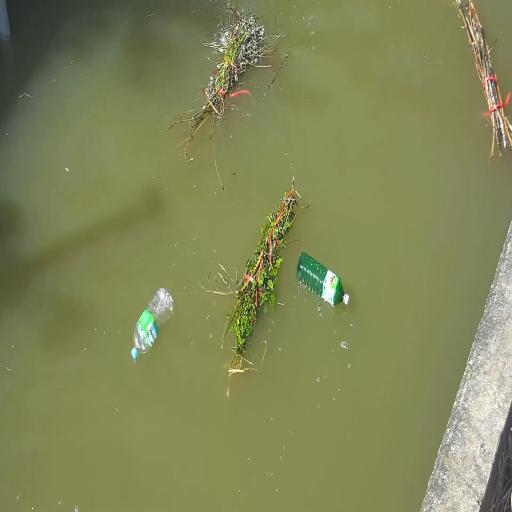plastic: (130, 285, 174, 367), (298, 249, 353, 308)
twig: (221, 195, 302, 356), (183, 16, 268, 148), (454, 0, 512, 161)
